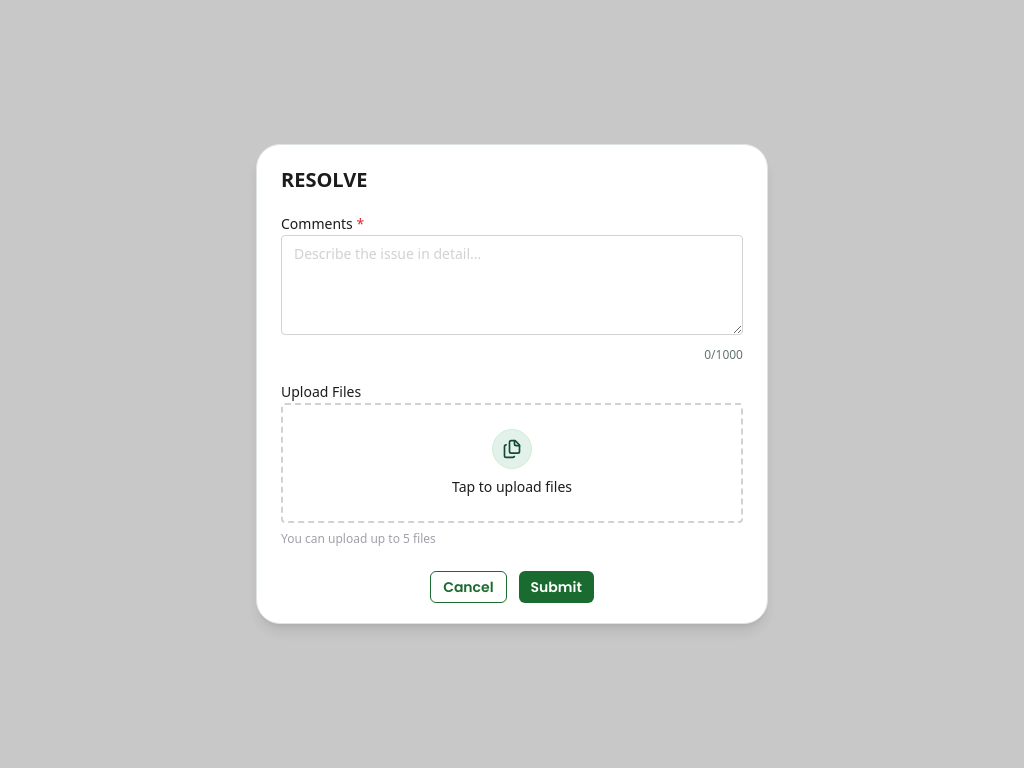
Test: ComplaintActionDialog › comment field › marks the comment field required and blocks submission without one for a comment-required action
Expected: the text "Comments *" is shown, [281,214,364,233]
Step 1. Click the button "Submit" → click(556, 587), box [519,571,594,603]
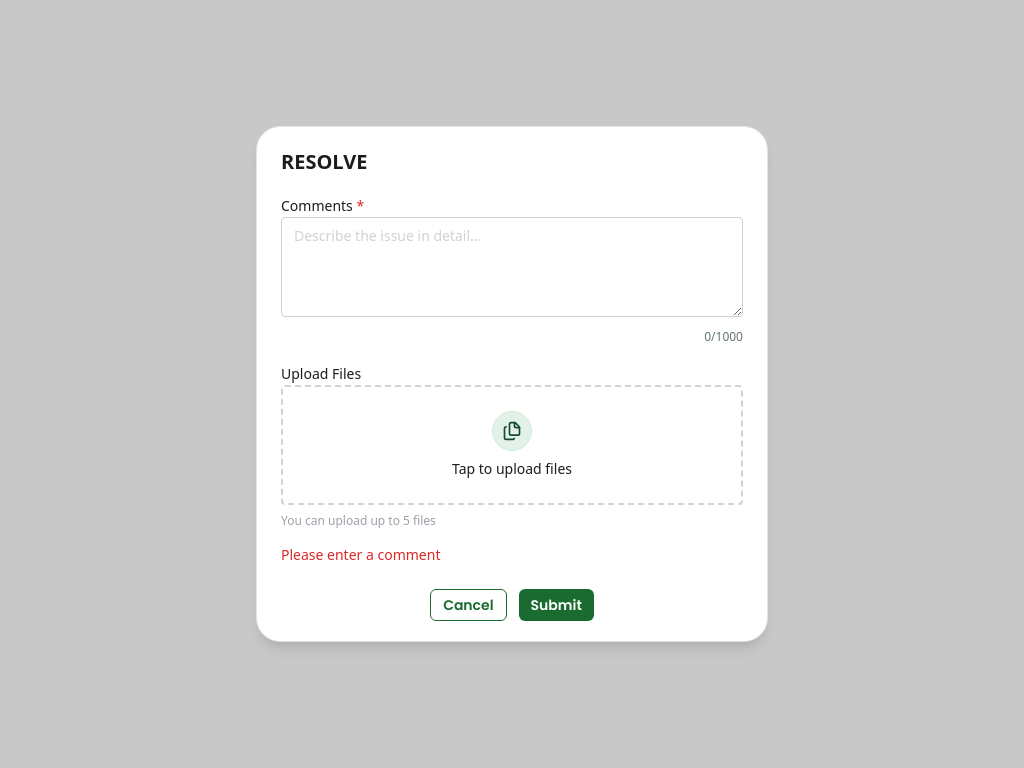
Expected: the text "Please enter a comment" is shown, [281,545,440,564]
